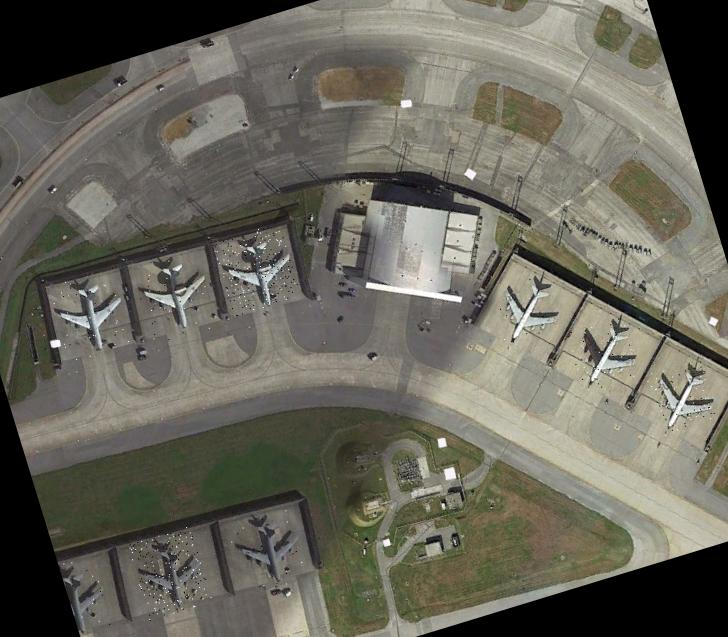A11: (47, 267, 133, 362), (488, 270, 563, 348), (566, 316, 641, 392), (644, 358, 718, 434)
A14: (223, 500, 309, 596), (126, 525, 212, 620), (58, 553, 115, 637)
A7: (132, 248, 220, 345), (212, 222, 301, 316)
